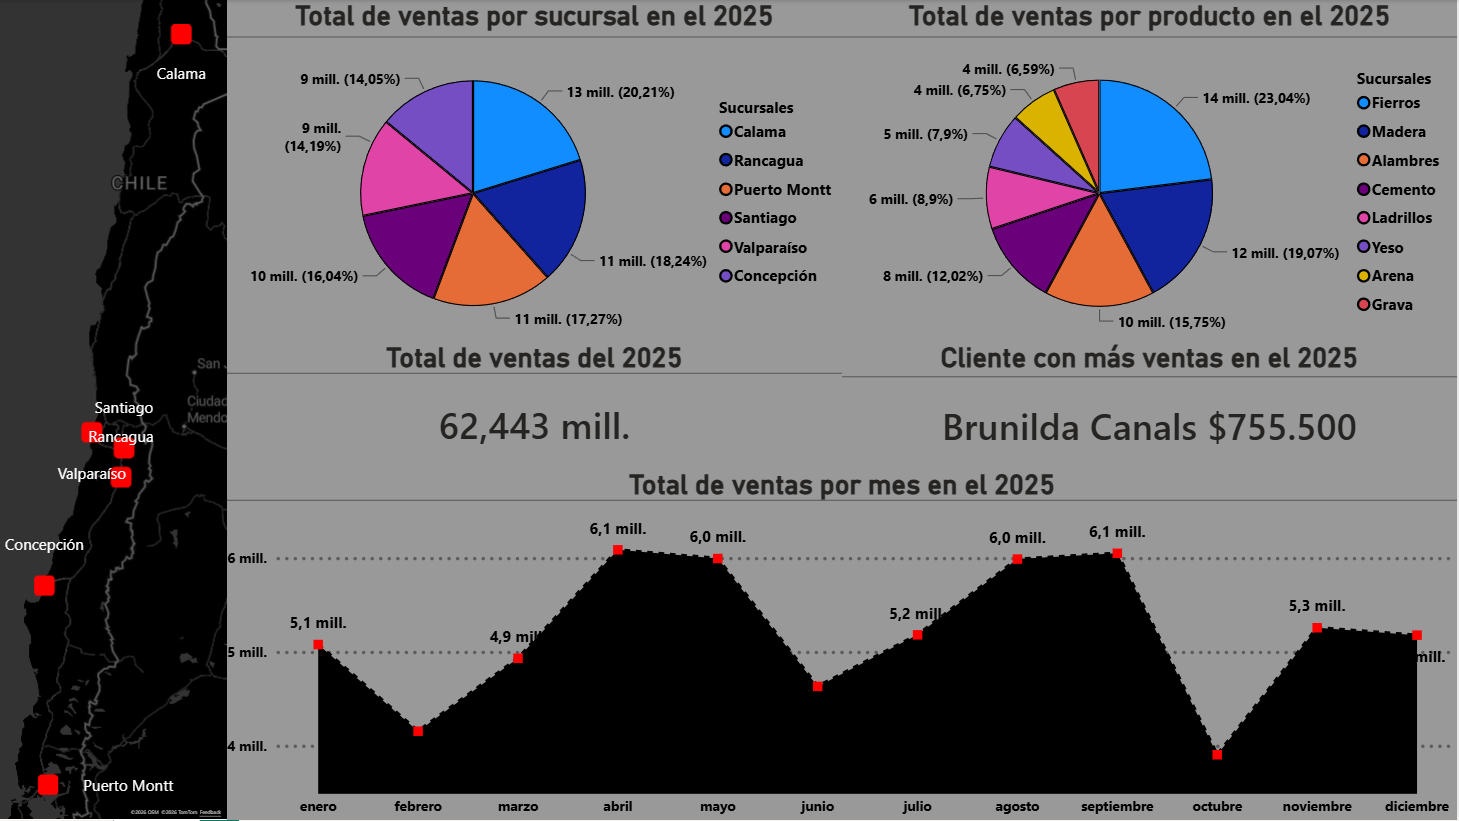

Layout of this report page (visuals, bound fields, positions):
{"tool":"powerbi","page":{"name":"Página 1","canvas":[1280,720],"ordinal":0},"visuals":[{"type":"azureMap","fields":{"Category":["sales.branch"],"Size":["Sum(sales.total_sale)"]},"box":[0,0,200,720.2],"z":0},{"type":"pieChart","title":"Total de ventas por sucursal en el 2025","fields":{"Category":["sales.branch"],"Y":["Sum(sales.total_sale)"]},"box":[200.2,0,540,300.3],"z":1000},{"type":"cardVisual","title":"Total de ventas del 2025","fields":{"Data":["Sum(sales.total_sale)"]},"box":[200.2,300.3,540,111.5],"z":2000},{"type":"lineChart","title":"Total de ventas por mes en el 2025","fields":{"Y":["Sum(sales.total_sale)"],"Category":["sales.sale_date.Variación.Jerarquía de fechas.Mes"]},"box":[200.2,411.8,1080,308.2],"z":3000},{"type":"cardVisual","title":"Cliente con más ventas en el 2025","fields":{"Data":["sales.Top Cliente"]},"box":[740.2,300.3,540,111.5],"z":4000},{"type":"pieChart","title":"Total de ventas por producto en el 2025","fields":{"Y":["Sum(sales.total_sale)"],"Category":["products.product_name"]},"box":[740.2,0,540,300.3],"z":5000}]}

Visuals, with their boxes in screenshot pixels (x1, y1, x2, y2), scaled from the page's 1280x720 canvas onto the 1459x821 screenshot:
azureMap - sales.branch x Sum(sales.total_sale): (0, 0, 228, 820)
"Total de ventas por sucursal en el 2025" pieChart: (228, 0, 844, 342)
"Total de ventas del 2025" cardVisual: (228, 342, 844, 470)
"Total de ventas por mes en el 2025" lineChart: (228, 470, 1458, 820)
"Cliente con más ventas en el 2025" cardVisual: (844, 342, 1458, 470)
"Total de ventas por producto en el 2025" pieChart: (844, 0, 1458, 342)
